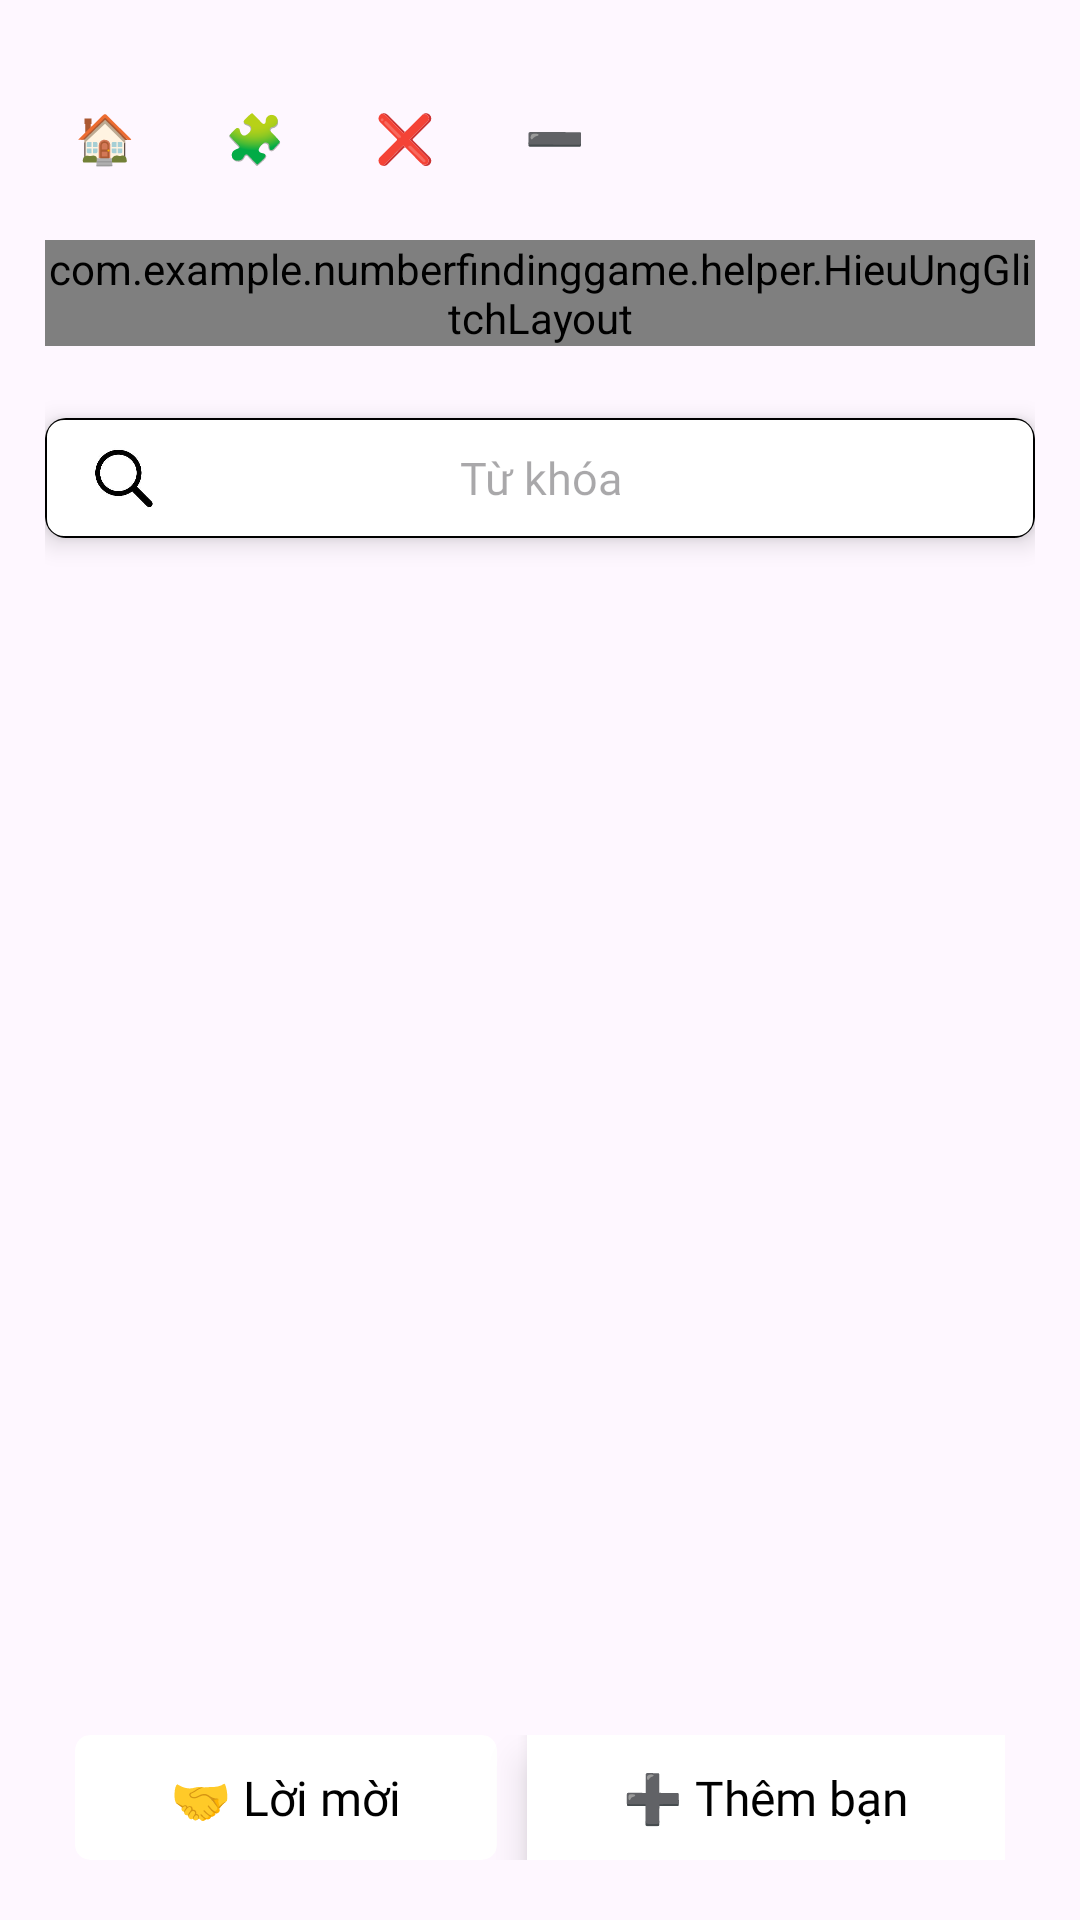

Icons on this 1080×1920 Android screen, each with the point to tap as [x,y]:
tim kiem: [124,478]
